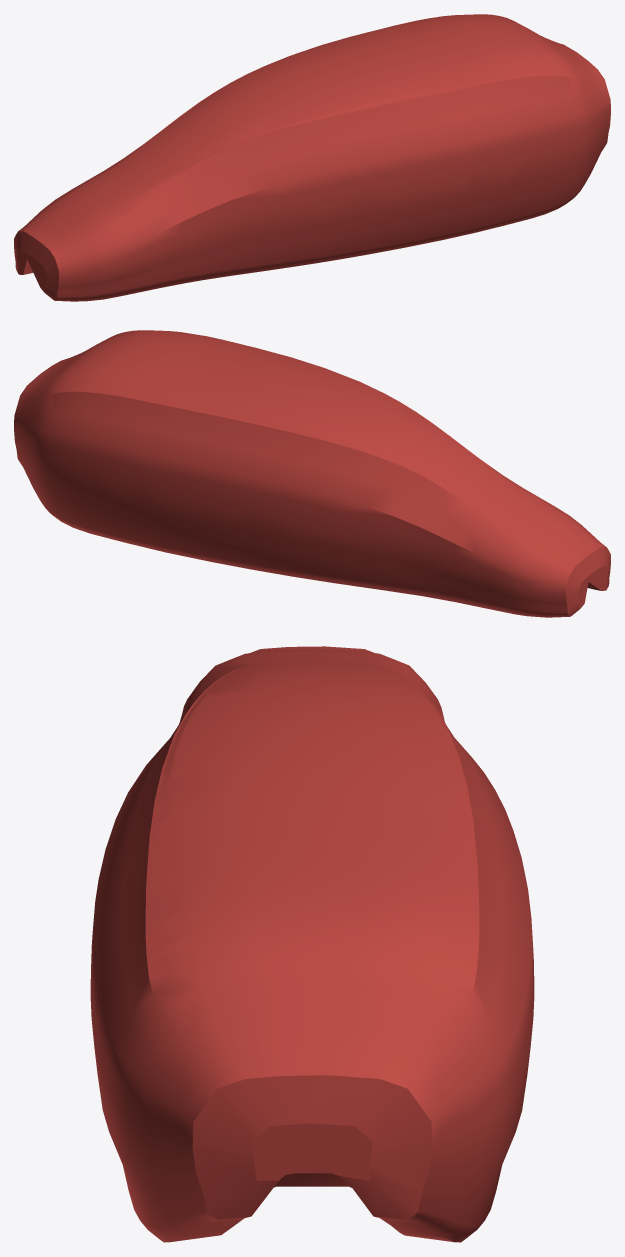
File: cruiser_1_lod2.glb
3 renders of one model, top to bottom at view 1: azimuth 30°, elevation 25°; view 2: azimuth 150°, elevation 25°; view 3: azimuth 270°, elevation 25°, orthographic. The views are drawn at different scales.
Visible parts, largest first — view 1: cruiser_1_lod2; view 2: cruiser_1_lod2; view 3: cruiser_1_lod2.
Part boxes in pixels (bbox=[...]): cruiser_1_lod2: bbox=[14, 14, 610, 301]; cruiser_1_lod2: bbox=[14, 330, 610, 617]; cruiser_1_lod2: bbox=[90, 646, 534, 1242].
Size of the model in its own units: 1.06 by 0.2877 by 0.3695.
